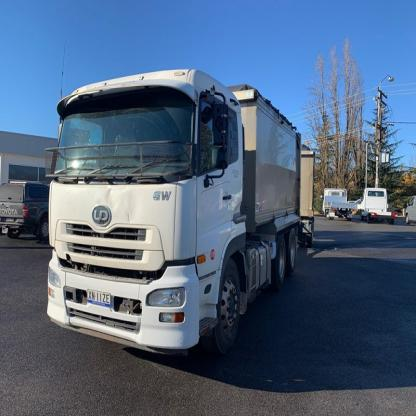dump_truck: (35, 62, 324, 360)
